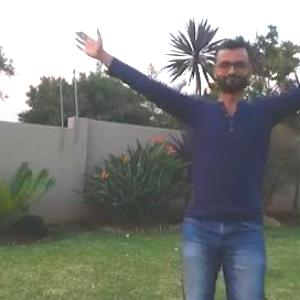takeoff: (87, 30, 299, 299)
